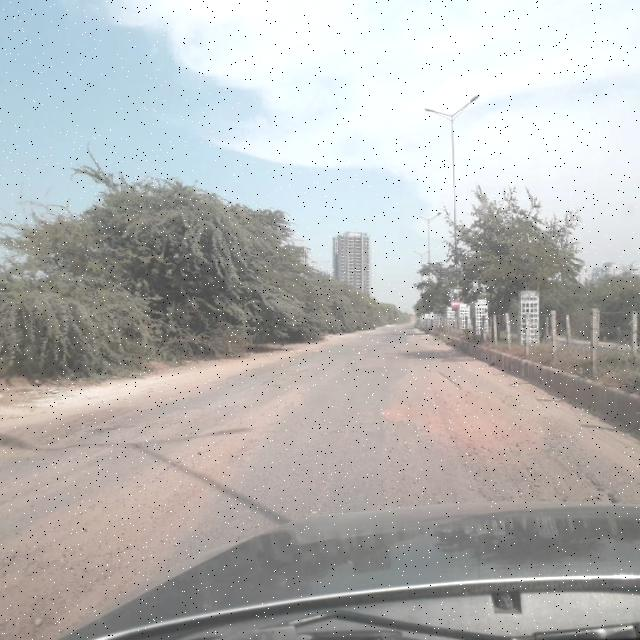D00: (430, 366, 471, 396)
D40: (373, 378, 625, 506), (38, 396, 194, 454)
